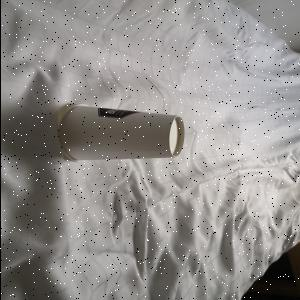Cup: (55, 104, 186, 165)
